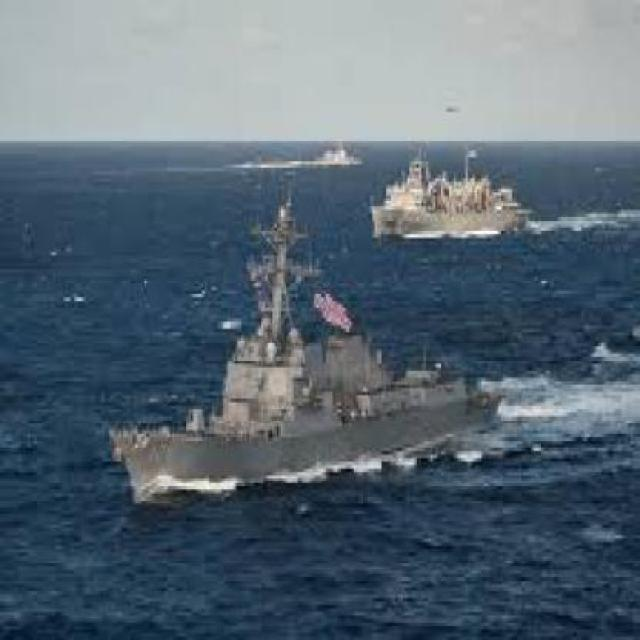warship2: (91, 190, 529, 512), (357, 137, 531, 257)
